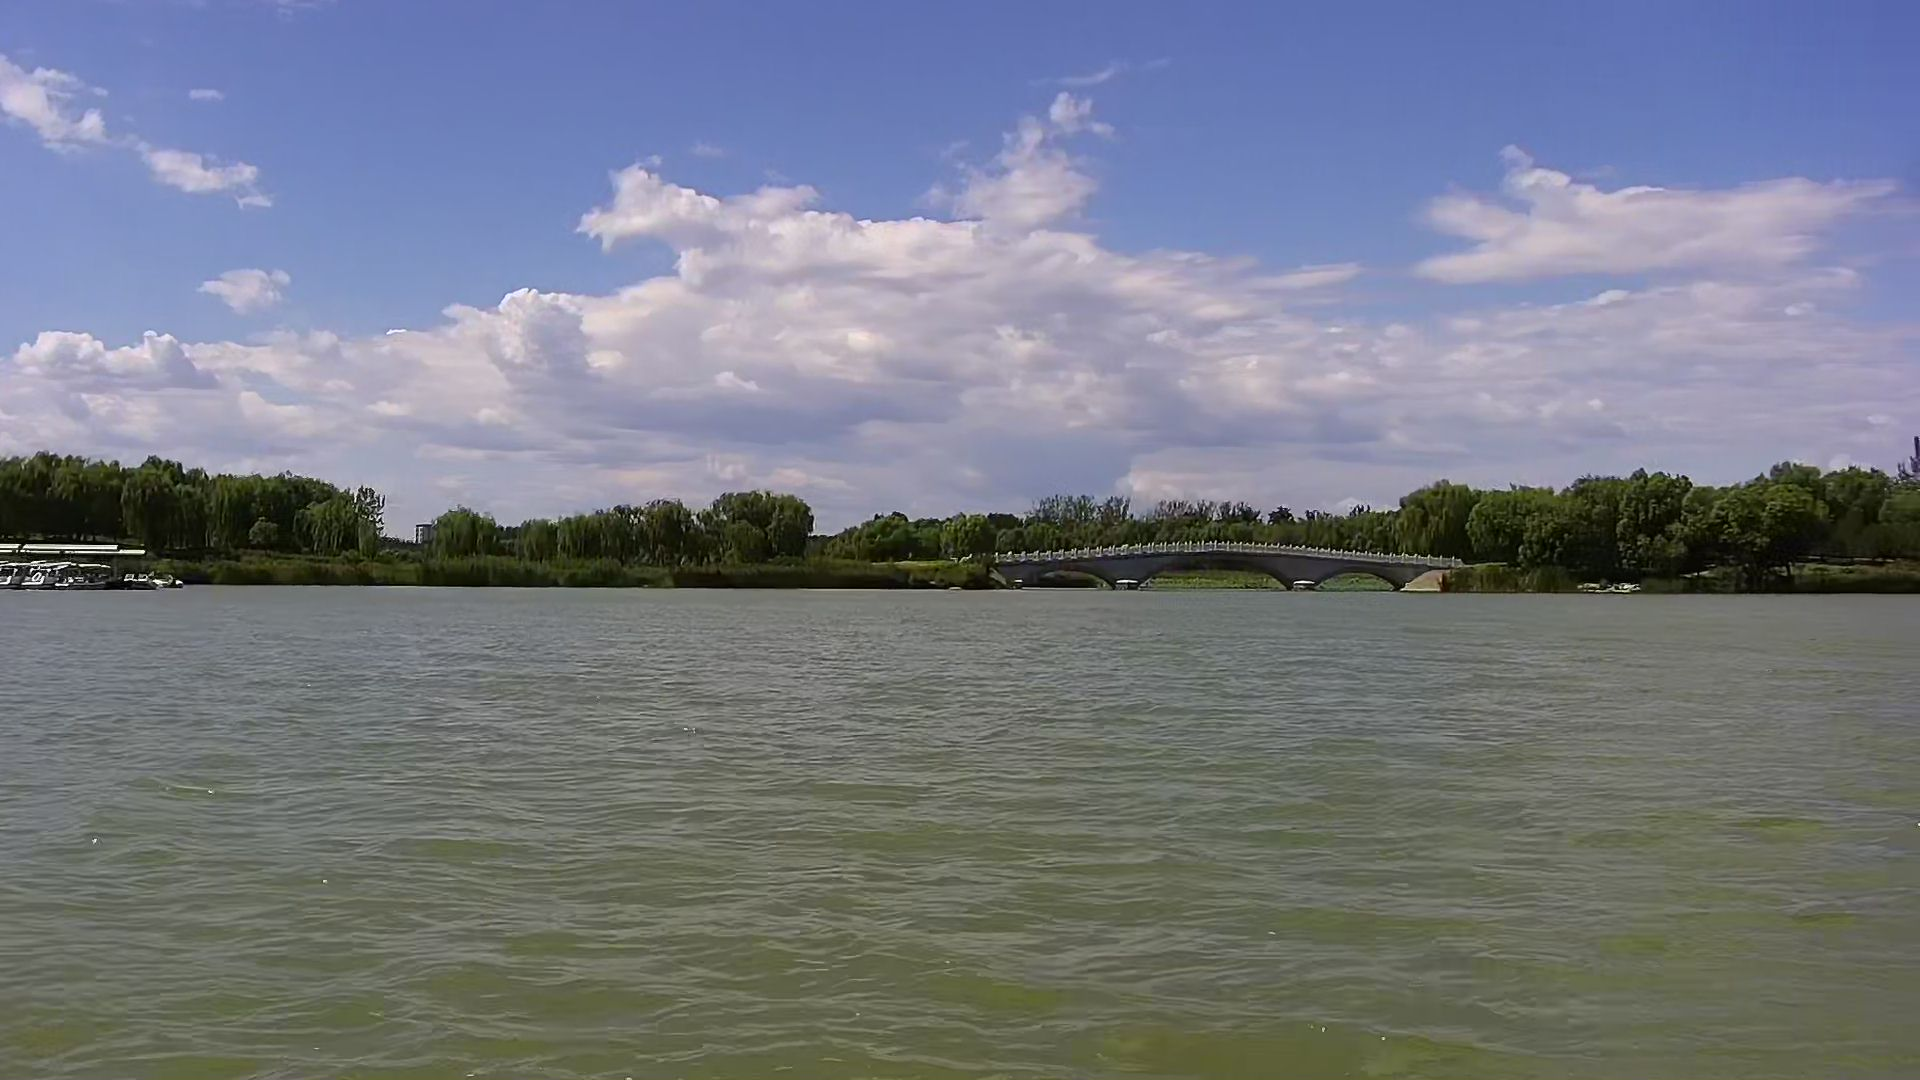bridge: (985, 535, 1447, 597)
harbor: (1, 543, 181, 593)
